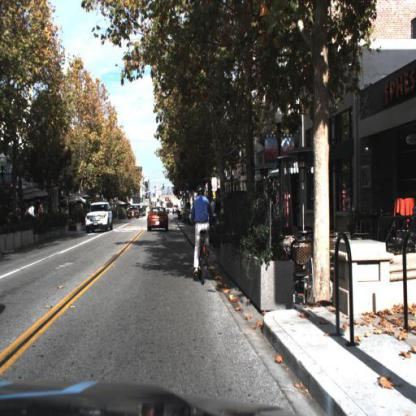biker: (193, 186, 216, 291)
car: (85, 199, 115, 235), (146, 203, 171, 235)
pedestrian: (280, 188, 292, 229), (283, 185, 293, 231), (127, 204, 141, 222), (38, 198, 47, 223), (27, 200, 35, 221)
